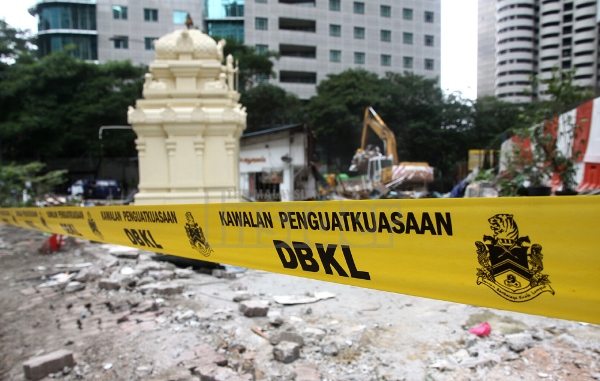Hindu Temple: (123, 26, 244, 192)
